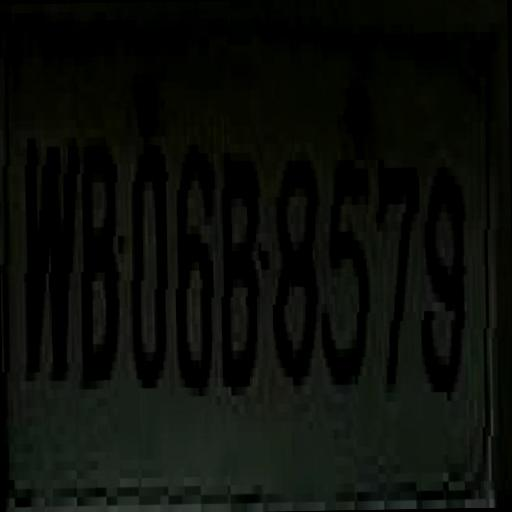number plate: (0, 22, 500, 512)
